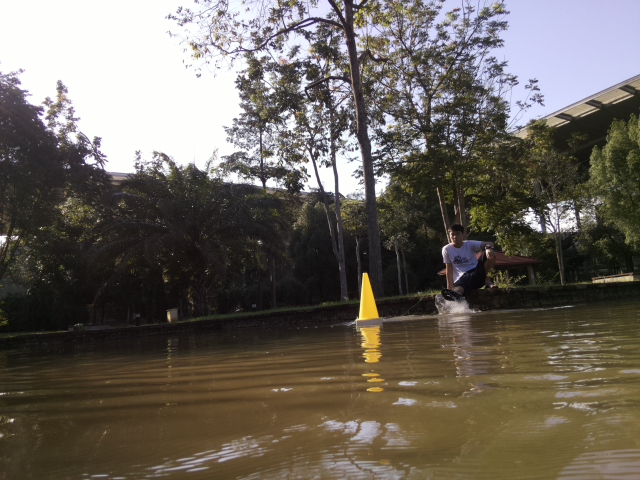checkpoint: (353, 271, 385, 329)
